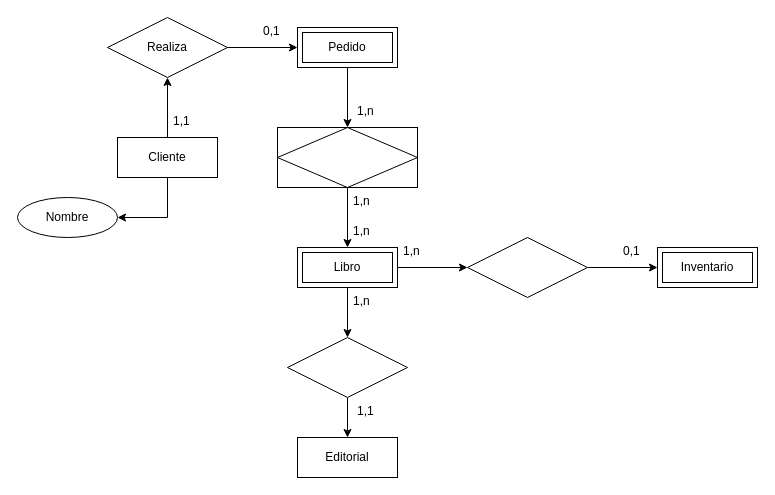
Image size: 775x495. Some labels were removed from this diagram. The centre of each missing label's shape, as x and y in pixels:
Contiene: [347,157]
Existe: [527,267]
Pertenece: [347,367]
